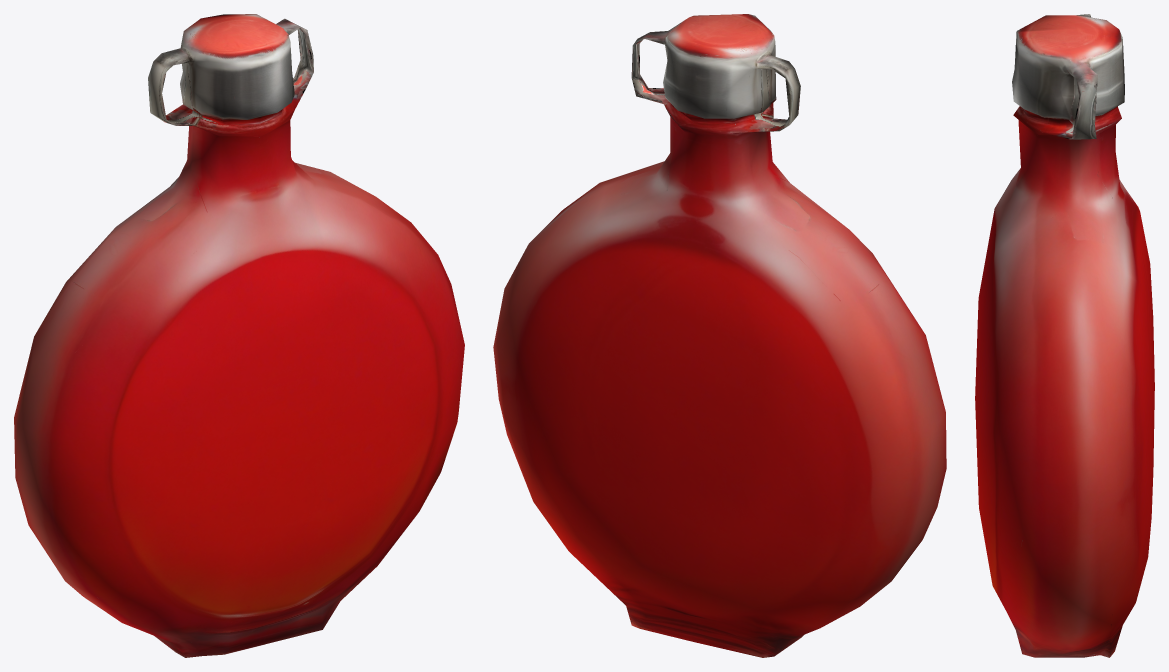
File: life-small-potion.glb
3 renders of one model, left to right at view 1: azimuth 30°, elevation 25°; view 2: azimuth 150°, elevation 25°; view 3: azimuth 270°, elevation 25°, orthographic.
Visible parts, largest first — view 1: Mesh_0.002; view 2: Mesh_0.002; view 3: Mesh_0.002.
Boxes of the visible parts, x1,y1,x2,y2 form: Mesh_0.002: (14, 14, 464, 657); Mesh_0.002: (493, 14, 946, 657); Mesh_0.002: (975, 14, 1154, 657).
Size of the model in its own units: 1.51 by 2 by 0.5491.
1 material, 1 textured.
